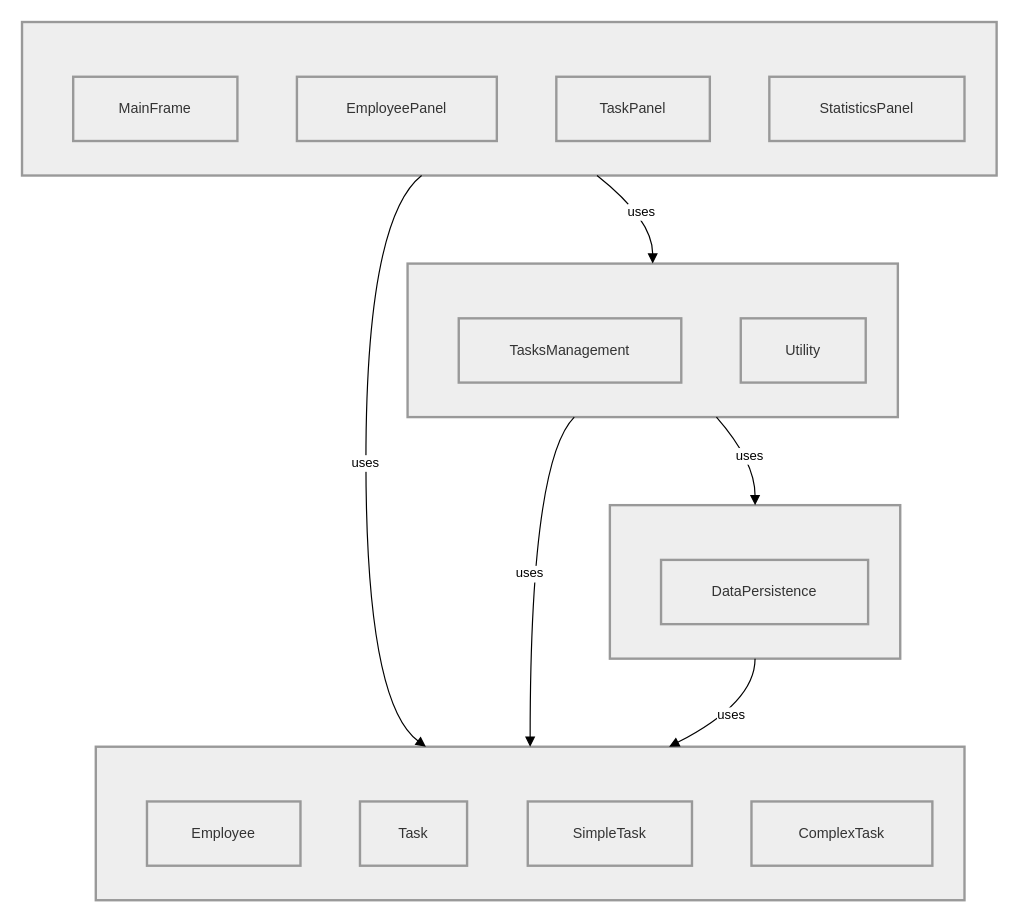
This 1017x921 diagram has some shape labels left out. The shapes that lost their labels are listed below. From the top down, each one's box as (x1, y1, x2, y2) in pixels, then its label:
(20, 20, 997, 176): org.example.ui
(406, 262, 898, 418): org.example.service
(608, 503, 901, 659): org.example.util
(94, 745, 965, 901): org.example.model
